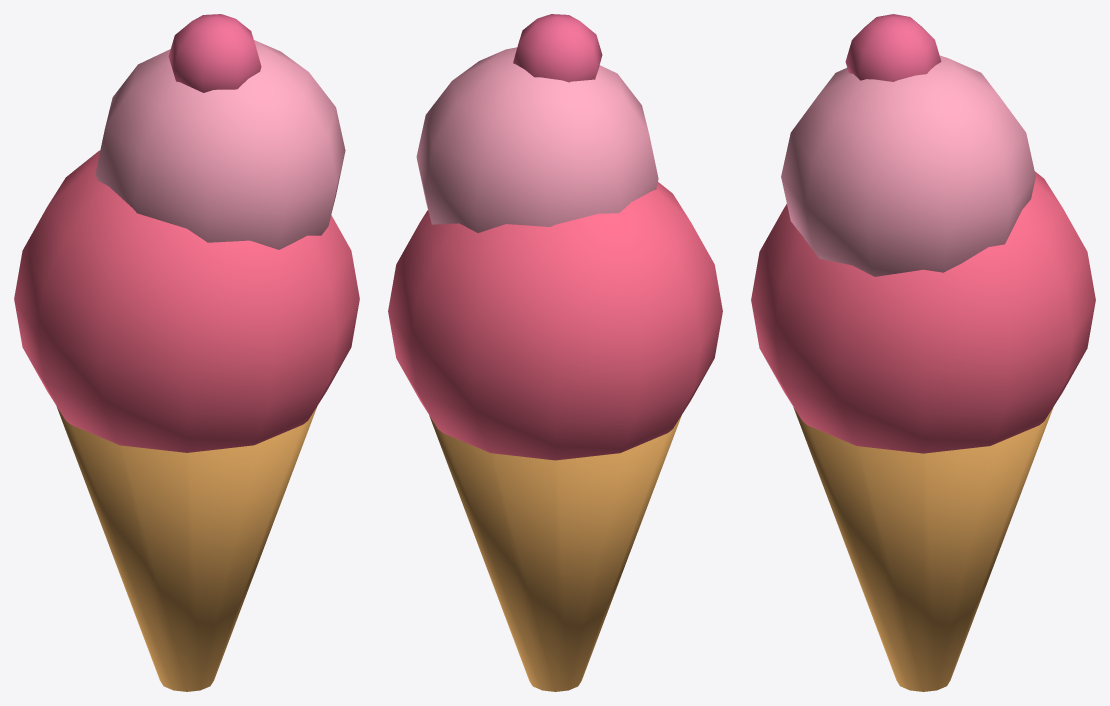
The model's file is IceCreamConeProp.fbx.
3 views of the same model, side by side, from view 1: azimuth 30°, elevation 25°; view 2: azimuth 150°, elevation 25°; view 3: azimuth 270°, elevation 25° (orthographic). The views are drawn at different scales.
Visible parts, largest first — view 1: IceCreamConeProp; view 2: IceCreamConeProp; view 3: IceCreamConeProp.
Part boxes in pixels (x1,y1,x2,y2): IceCreamConeProp: (14,14,359,691); IceCreamConeProp: (388,14,722,691); IceCreamConeProp: (751,14,1095,691).
Bounding box in the file's own units: 0.23 × 0.492 × 0.23.
